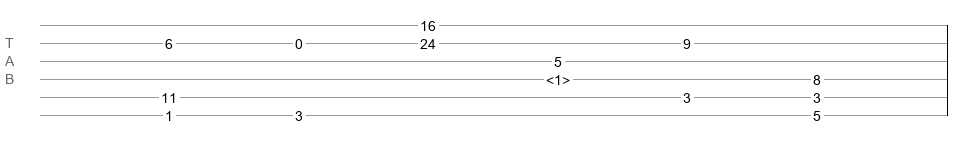0: (295, 36, 303, 46)
1: (165, 108, 173, 118)
11: (161, 90, 177, 100)
16: (420, 18, 436, 28)
24: (420, 36, 436, 46)
3: (295, 108, 303, 118), (683, 90, 691, 100), (813, 90, 821, 100)
5: (554, 54, 562, 64), (813, 108, 821, 118)
6: (165, 36, 173, 46)
8: (813, 72, 821, 82)
9: (683, 36, 691, 46)
harmonic: (546, 72, 570, 82)
